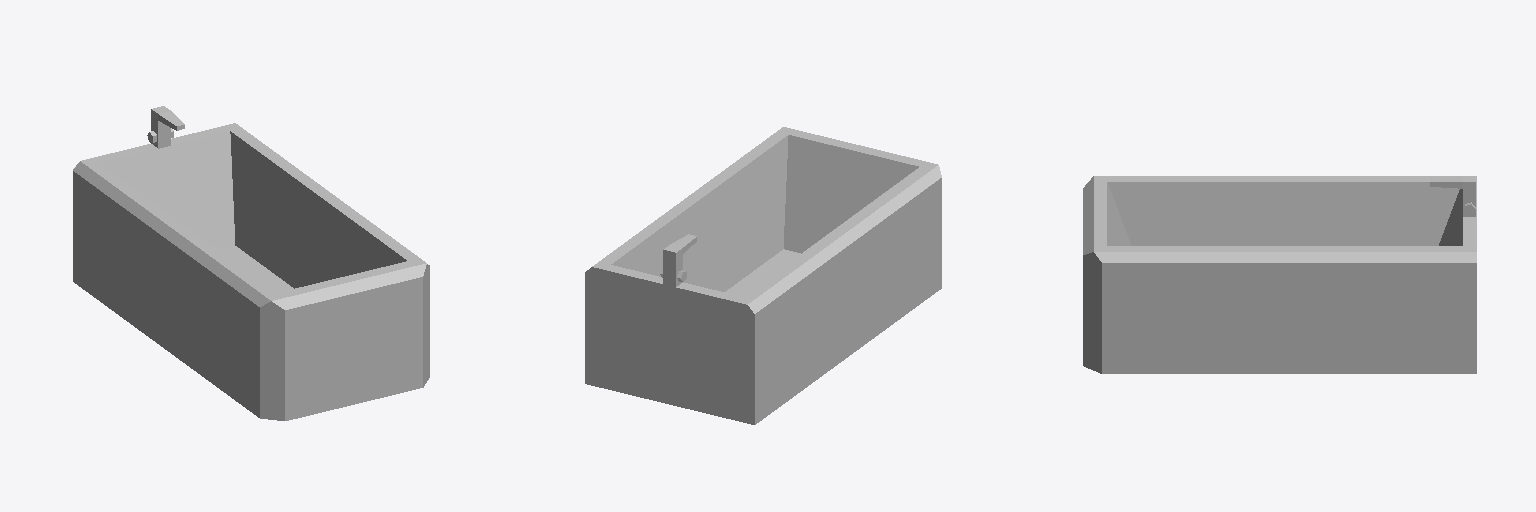
The model's file is bathtub_1.obj.
3 renders of one model, left to right at view 1: azimuth 30°, elevation 25°; view 2: azimuth 150°, elevation 25°; view 3: azimuth 270°, elevation 25°, orthographic.
Parts seen in each view (by area): view 1: bathtub_1; view 2: bathtub_1; view 3: bathtub_1.
Boxes of the visible parts, box(x1,y1,x2,y2) form: bathtub_1: box(73, 106, 429, 420); bathtub_1: box(585, 127, 941, 424); bathtub_1: box(1083, 176, 1476, 373).
Size of the model in its own units: 3 by 2.58 by 6.